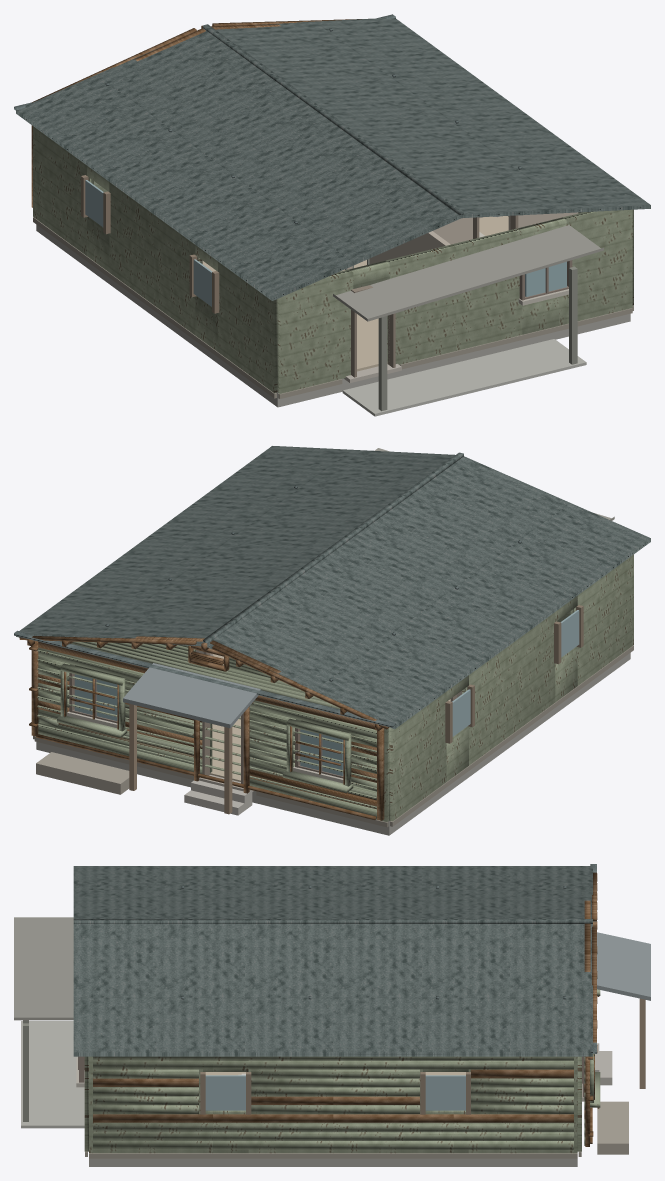
The model's file is HAB_450_Z2_R14_ALBEDO_OTIM_CANDIDATO.gltf.
The picture shows the model from 3 angles, top to bottom: view 1: azimuth 30°, elevation 25°; view 2: azimuth 150°, elevation 25°; view 3: azimuth 270°, elevation 25°; orthographic projection.
Parts seen in each view (by area): view 1: HAB_450_COBERTURA_AGUA_ESQ, HAB_450_COBERTURA_AGUA_DIR, HAB_450_FACHADA_FUNDOS_TRECHO_2, HAB_450_ABRIGO_SERVICO_COBERTURA, HAB_450_LATERAL_ESQ_TRECHO_2, HAB_450_FACHADA_FUNDOS_TRECHO_0, HAB_450_ABRIGO_SERVICO_PISO, HAB_450_FACHADA_FUNDOS_TRECHO_4, HAB_450_LATERAL_ESQ_TRECHO_4, HAB_450_LATERAL_ESQ_TRECHO_0, HAB_450_FUNDACAO_EMBASAMENTO, HAB_450_REV26_ARREMATE_EMBASAMENTO (+14 smaller); view 2: HAB_450_COBERTURA_AGUA_ESQ, HAB_450_COBERTURA_AGUA_DIR, HAB_450_Z2_woodwarm, HAB_450_LATERAL_ESQ_TRECHO_2, HAB_450_REV28_INTERVENCAO_ARQUITETONICA, HAB_450_LATERAL_ESQ_TRECHO_0, HAB_450_LATERAL_ESQ_TRECHO_4, HAB_450_Z2_woodbleached, HAB_450_Z2_woodbeam, HAB_450_Z2_woodshadow, HAB_450_FUNDACAO_EMBASAMENTO, HAB_450_Z2_woodhoney (+19 smaller); view 3: HAB_450_COBERTURA_AGUA_DIR, HAB_450_COBERTURA_AGUA_ESQ, HAB_450_Z2_woodwarm, HAB_450_Z2_woodbleached, HAB_450_Z2_woodhoney, HAB_450_Z2_woodaged, HAB_450_ABRIGO_SERVICO_COBERTURA, HAB_450_ABRIGO_SERVICO_PISO, HAB_450_FUNDACAO_EMBASAMENTO, HAB_450_REV28_INTERVENCAO_ARQUITETONICA, HAB_450_LATERAL_DIR_TRECHO_2, HAB_450_REV26_ARREMATE_EMBASAMENTO (+14 smaller).
Part boxes in pixels (box(x1,y1,x2,y2)): HAB_450_COBERTURA_AGUA_ESQ: box(16, 28, 461, 300); HAB_450_COBERTURA_AGUA_DIR: box(215, 18, 650, 218); HAB_450_FACHADA_FUNDOS_TRECHO_2: box(386, 228, 522, 364); HAB_450_ABRIGO_SERVICO_COBERTURA: box(333, 225, 603, 321); HAB_450_LATERAL_ESQ_TRECHO_2: box(109, 182, 202, 334); HAB_450_FACHADA_FUNDOS_TRECHO_0: box(277, 269, 353, 393); HAB_450_ABRIGO_SERVICO_PISO: box(342, 339, 586, 416); HAB_450_FACHADA_FUNDOS_TRECHO_4: box(563, 209, 632, 323); HAB_450_LATERAL_ESQ_TRECHO_4: box(218, 262, 277, 393); HAB_450_LATERAL_ESQ_TRECHO_0: box(33, 126, 93, 255); HAB_450_FUNDACAO_EMBASAMENTO: box(36, 224, 630, 407); HAB_450_REV26_ARREMATE_EMBASAMENTO: box(33, 217, 633, 398); HAB_450_COBERTURA_AGUA_ESQ: box(207, 456, 650, 729); HAB_450_COBERTURA_AGUA_DIR: box(16, 446, 455, 646); HAB_450_Z2_woodwarm: box(38, 641, 376, 817); HAB_450_LATERAL_ESQ_TRECHO_2: box(462, 612, 555, 765); HAB_450_REV28_INTERVENCAO_ARQUITETONICA: box(123, 663, 260, 814); HAB_450_LATERAL_ESQ_TRECHO_0: box(389, 691, 446, 821); HAB_450_LATERAL_ESQ_TRECHO_4: box(570, 554, 633, 685); HAB_450_Z2_woodbleached: box(38, 641, 353, 792); HAB_450_Z2_woodbeam: box(19, 636, 389, 820); HAB_450_Z2_woodshadow: box(29, 636, 376, 819); HAB_450_FUNDACAO_EMBASAMENTO: box(36, 653, 630, 835); HAB_450_Z2_woodhoney: box(38, 641, 376, 809); HAB_450_COBERTURA_AGUA_DIR: box(73, 924, 592, 1056); HAB_450_COBERTURA_AGUA_ESQ: box(73, 866, 592, 918); HAB_450_Z2_woodwarm: box(93, 1054, 594, 1149); HAB_450_Z2_woodbleached: box(93, 989, 600, 1140); HAB_450_Z2_woodhoney: box(93, 1056, 585, 1122); HAB_450_Z2_woodaged: box(93, 1078, 573, 1131); HAB_450_ABRIGO_SERVICO_COBERTURA: box(14, 917, 73, 1020); HAB_450_ABRIGO_SERVICO_PISO: box(21, 1021, 84, 1128); HAB_450_FUNDACAO_EMBASAMENTO: box(89, 1158, 577, 1166); HAB_450_REV28_INTERVENCAO_ARQUITETONICA: box(597, 932, 650, 1088); HAB_450_LATERAL_DIR_TRECHO_2: box(248, 1060, 422, 1153); HAB_450_REV26_ARREMATE_EMBASAMENTO: box(85, 1151, 581, 1158).
Bounding box in the file's own units: 10.22 × 4.07 × 14.7.
4 materials, 4 textured.
